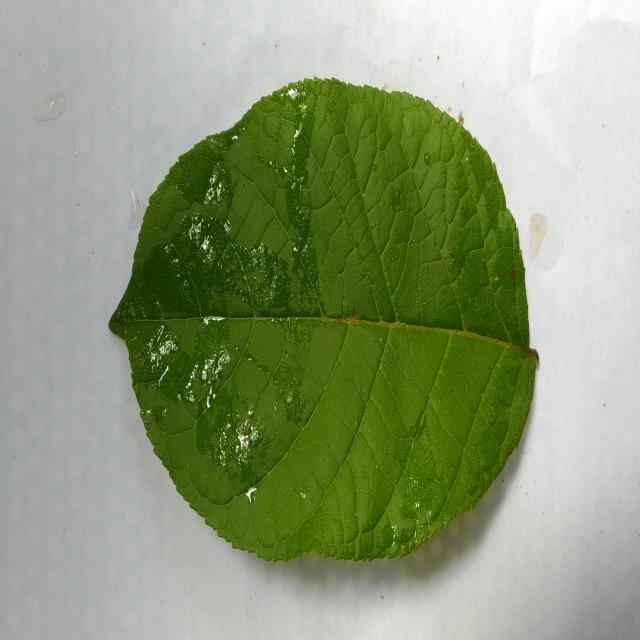padri: (110, 80, 538, 560)
